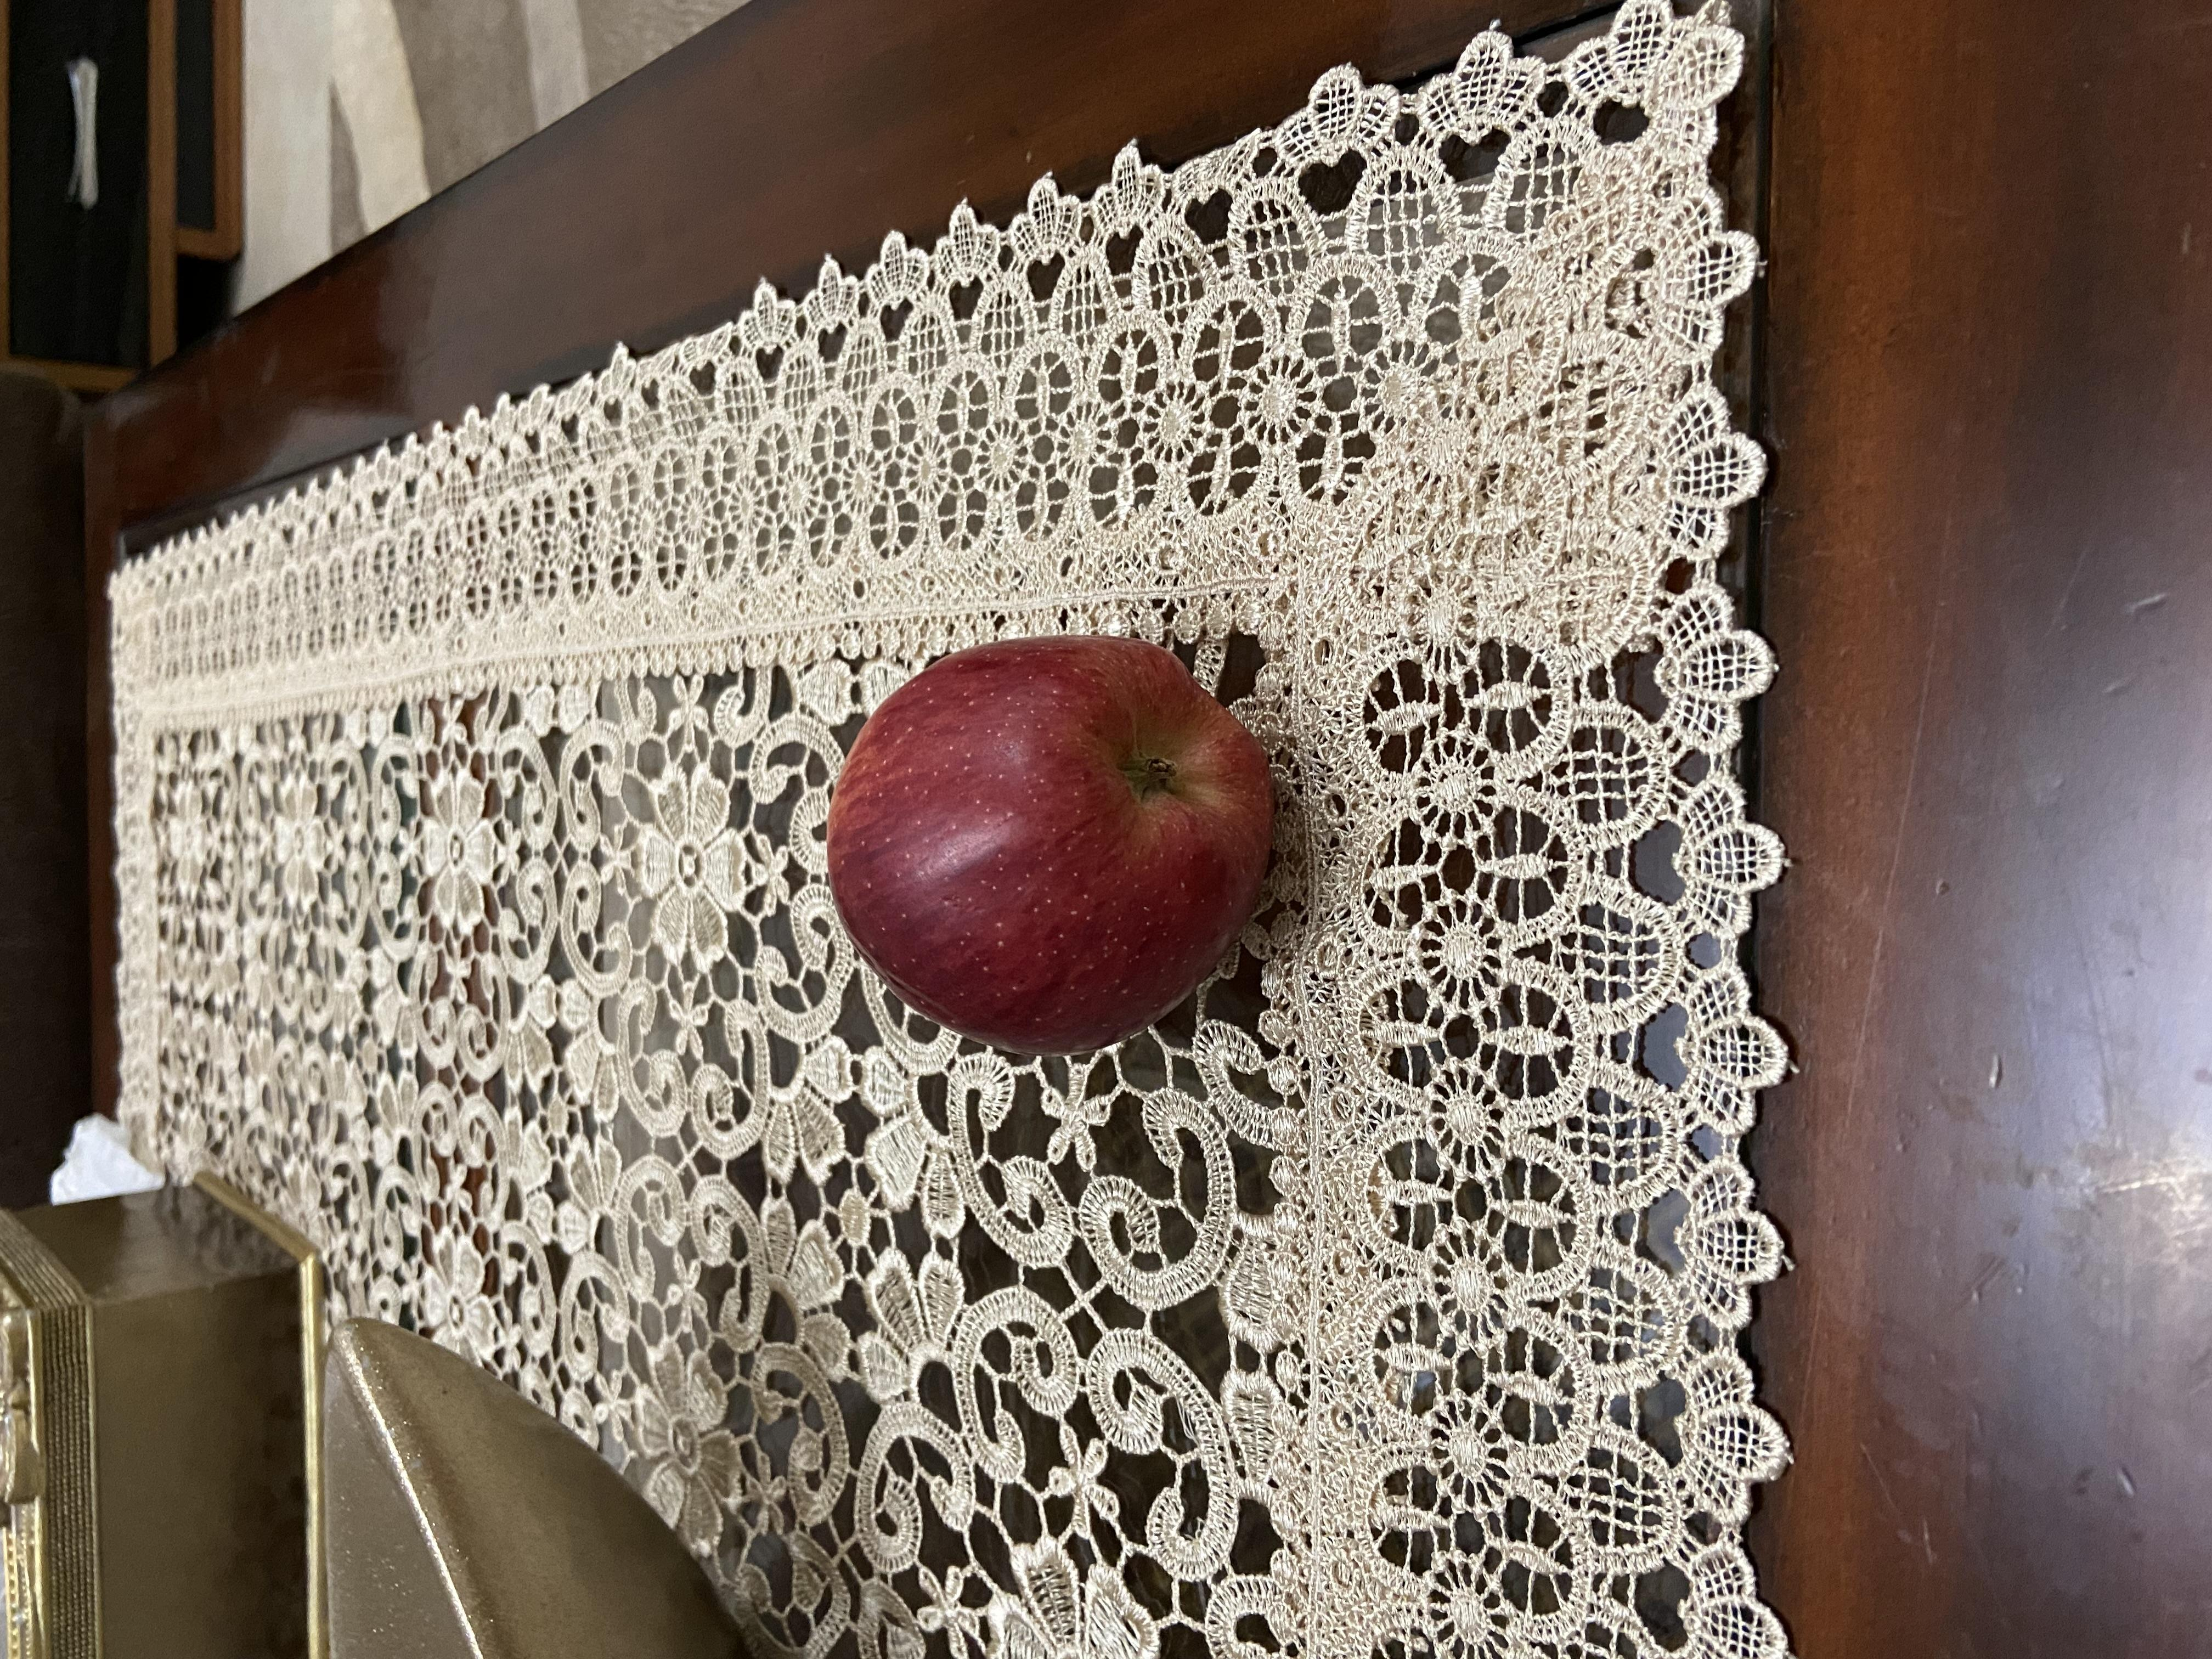Apple: (808, 617, 1383, 962)
